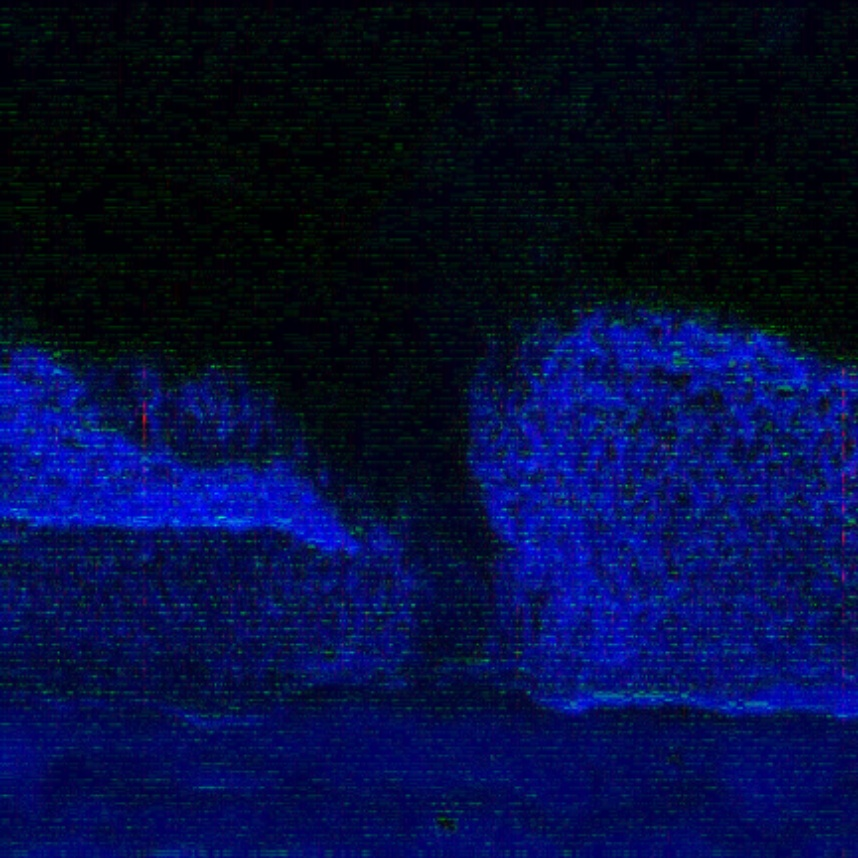rip_current: (189, 247, 598, 669)
